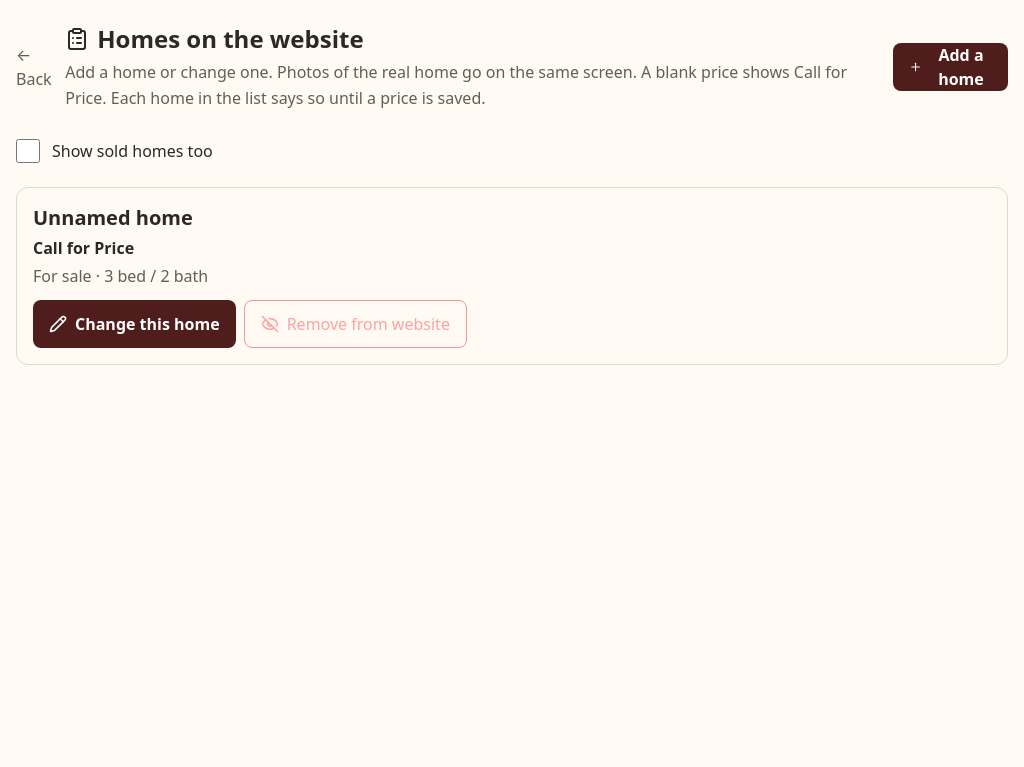
it: requires a model name when an imported record has a null model name
The image size is (1024, 767).
Step 1. Click the button "Change this home" → {"x": 134, "y": 324}, box [33,300,236,348]
(page scrolled)
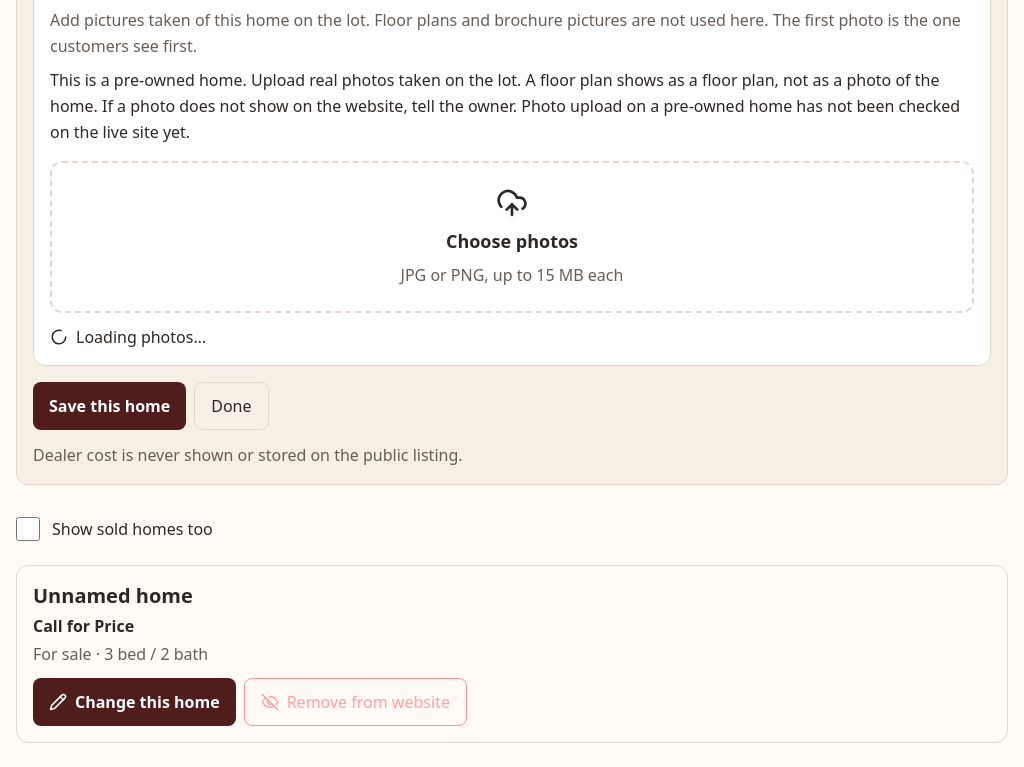
Step 2. Click the button "Save this home" → {"x": 110, "y": 406}, box [33,382,186,430]
(page scrolled)
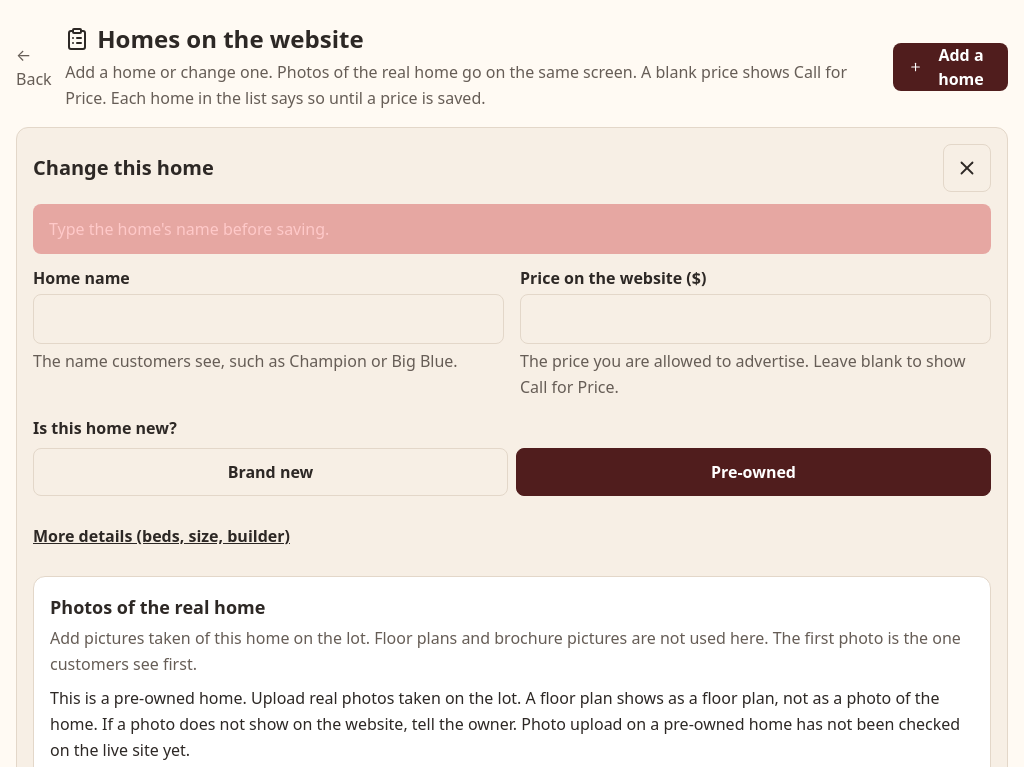
Expected: the text "Type the home's name before saving." is shown, [33,204,991,254]
